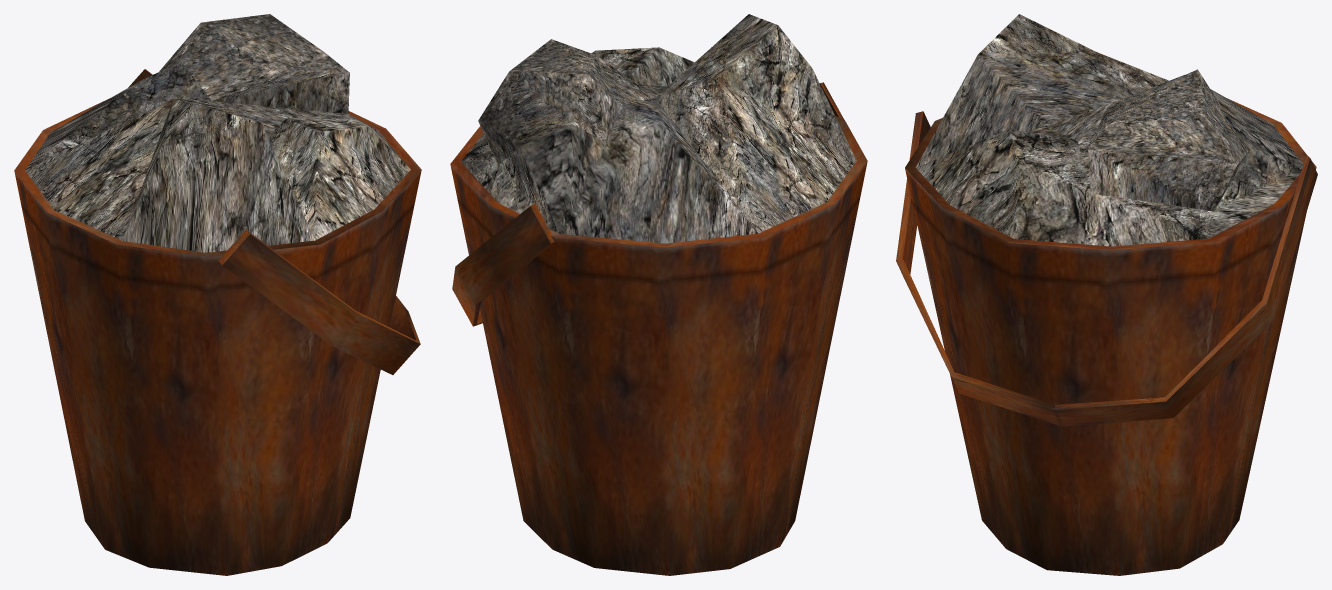
The model's file is pir_m_prp_mng_rusty_bucket.fbx.
3 renders of one model, left to right at view 1: azimuth 30°, elevation 25°; view 2: azimuth 150°, elevation 25°; view 3: azimuth 270°, elevation 25°, orthographic. The views are drawn at different scales.
Visible parts, largest first — view 1: bucket_1, rocks, bucket_handle; view 2: bucket_1, rocks, bucket_handle; view 3: bucket_1, rocks, bucket_handle.
Part boxes in pixels (x1,y1,x2,y2): bucket_1: (14, 98, 421, 575); rocks: (25, 14, 410, 252); bucket_handle: (128, 69, 420, 374); bucket_1: (450, 116, 867, 575); rocks: (460, 14, 856, 243); bucket_handle: (452, 82, 843, 326); bucket_1: (905, 99, 1316, 575); rocks: (915, 14, 1303, 246); bucket_handle: (896, 111, 1317, 426).
Bounding box in the file's own units: 193 × 249 × 202.
2 materials, 2 textured.
